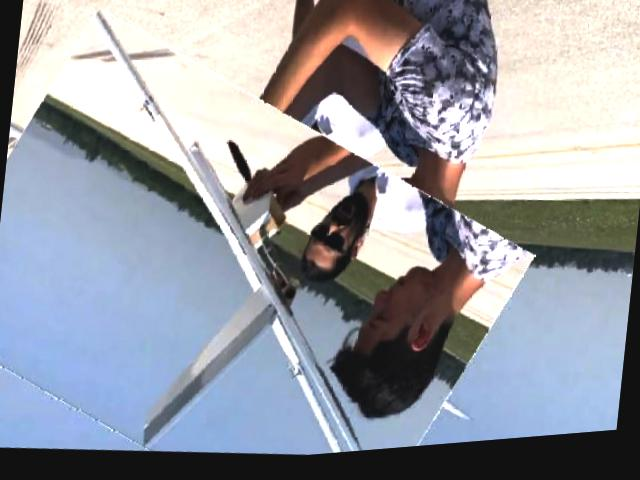insansiz-hava-araci: (0, 23, 531, 480)
